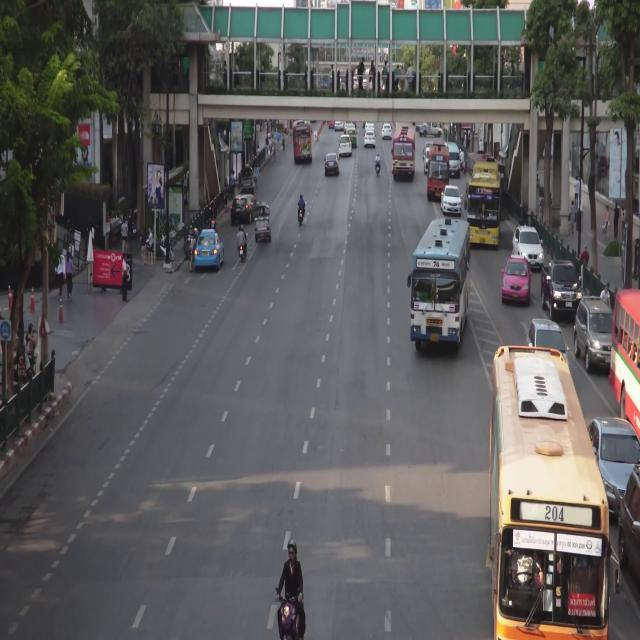bus: (492, 344, 609, 640), (411, 216, 467, 347), (614, 286, 640, 438), (468, 160, 501, 245), (393, 127, 414, 181), (429, 144, 449, 197), (292, 123, 312, 164)
car: (587, 415, 640, 521), (620, 464, 640, 615), (576, 297, 612, 373), (542, 259, 582, 318), (526, 319, 569, 370), (513, 225, 543, 269), (231, 195, 259, 223), (441, 186, 462, 217), (254, 205, 271, 242), (445, 141, 460, 178), (416, 122, 443, 137), (325, 154, 340, 177), (241, 167, 254, 193), (339, 135, 352, 157), (364, 131, 375, 147), (382, 124, 392, 139), (424, 142, 434, 156), (424, 149, 429, 174), (365, 121, 375, 132), (344, 122, 353, 132), (335, 121, 344, 130), (346, 125, 355, 131)
pedestrian: (65, 251, 74, 302), (121, 255, 129, 304), (27, 324, 37, 360), (57, 252, 64, 300), (147, 225, 154, 265), (613, 201, 620, 240), (604, 204, 611, 241), (580, 244, 590, 268), (140, 227, 146, 265), (600, 283, 610, 305), (570, 197, 576, 233), (121, 218, 127, 253), (539, 191, 544, 225), (183, 169, 188, 202), (231, 170, 236, 200), (223, 177, 228, 206), (574, 174, 578, 209), (254, 166, 259, 189), (265, 134, 269, 156), (622, 204, 627, 221), (282, 133, 286, 153), (273, 142, 276, 166), (269, 135, 272, 155), (256, 145, 260, 155)
taxi: (502, 255, 531, 303), (195, 231, 224, 269), (346, 129, 357, 147)
